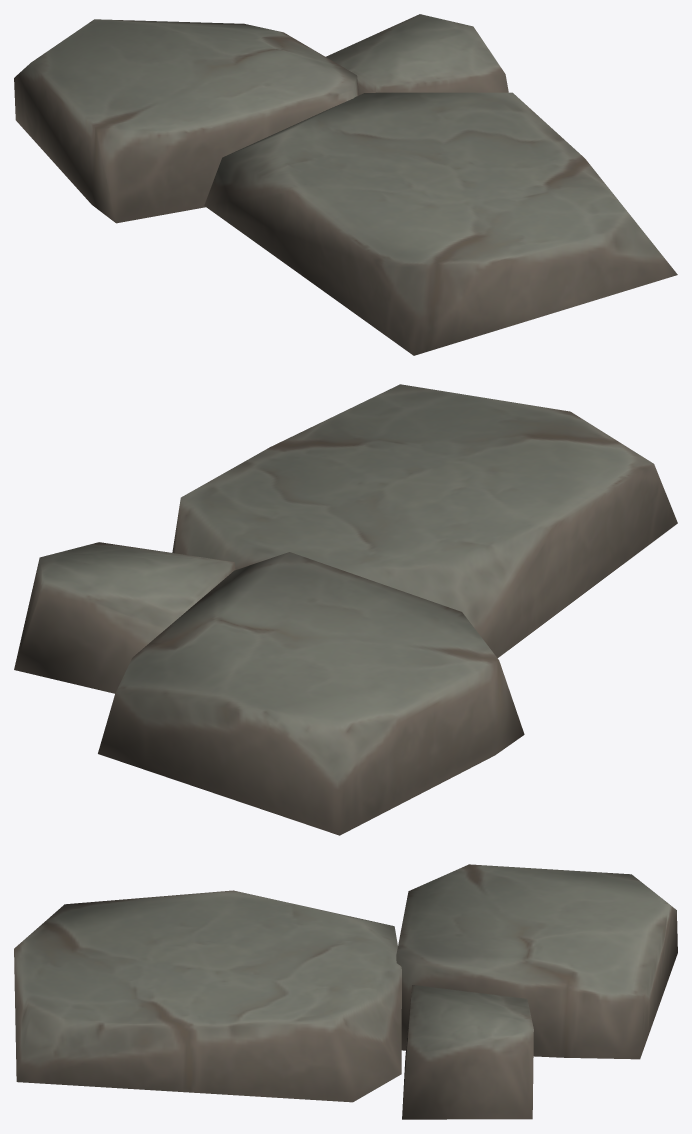
The model's file is SM_FW01_Floor_Tile_Group_01.fbx.
The picture shows the model from 3 angles, top to bottom: view 1: azimuth 30°, elevation 25°; view 2: azimuth 150°, elevation 25°; view 3: azimuth 270°, elevation 25°; orthographic projection. The views are drawn at different scales.
Parts seen in each view (by area): view 1: SM_FW01_Floor_Tile_Group_01; view 2: SM_FW01_Floor_Tile_Group_01; view 3: SM_FW01_Floor_Tile_Group_01.
Boxes of the visible parts, x1=… form: SM_FW01_Floor_Tile_Group_01: x1=14, y1=14, x2=677, y2=355; SM_FW01_Floor_Tile_Group_01: x1=14, y1=384, x2=677, y2=835; SM_FW01_Floor_Tile_Group_01: x1=14, y1=864, x2=677, y2=1119.
Size of the model in its own units: 0.5834 by 0.1321 by 0.9024.
